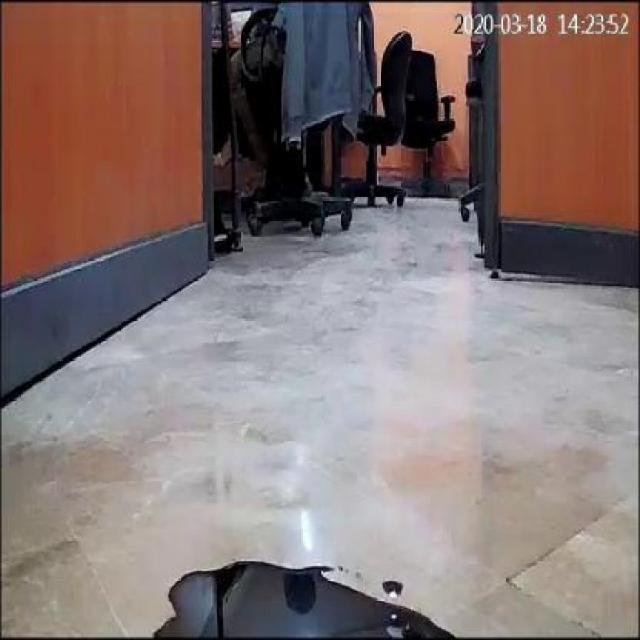spill: (151, 564, 446, 640)
